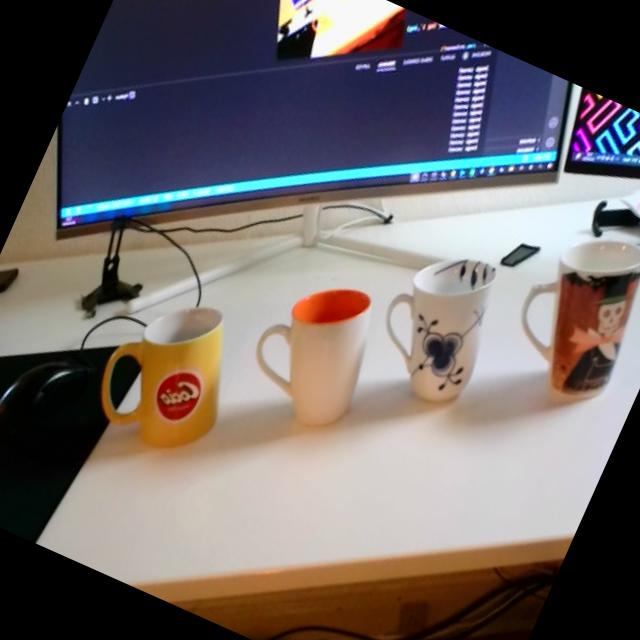Cocio Cup: (80, 275, 258, 470)
Halloween cup: (495, 211, 640, 411)
Hand painted cup: (360, 230, 517, 416)
White Cup: (230, 256, 394, 442)
